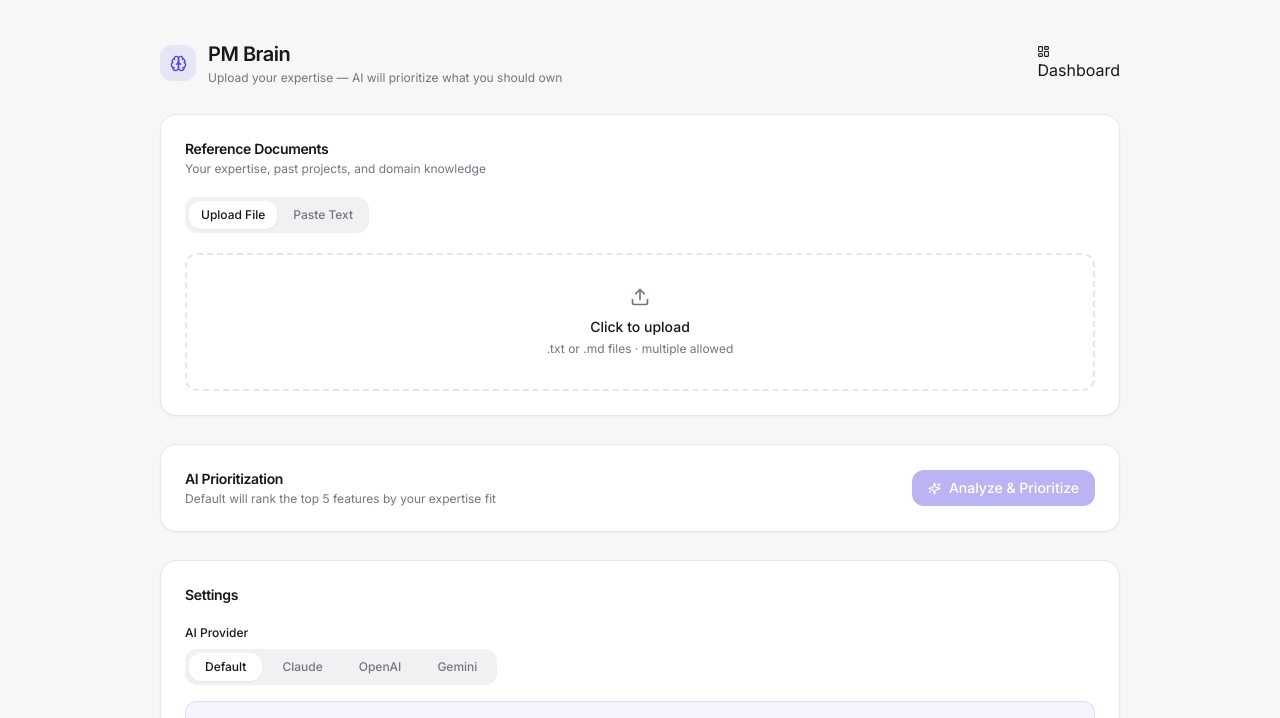
Test: PM Brain Page › switching to Claude shows API key input
Click the button "Claude" at [303, 667], box [266,653,339,681]
(page scrolled)
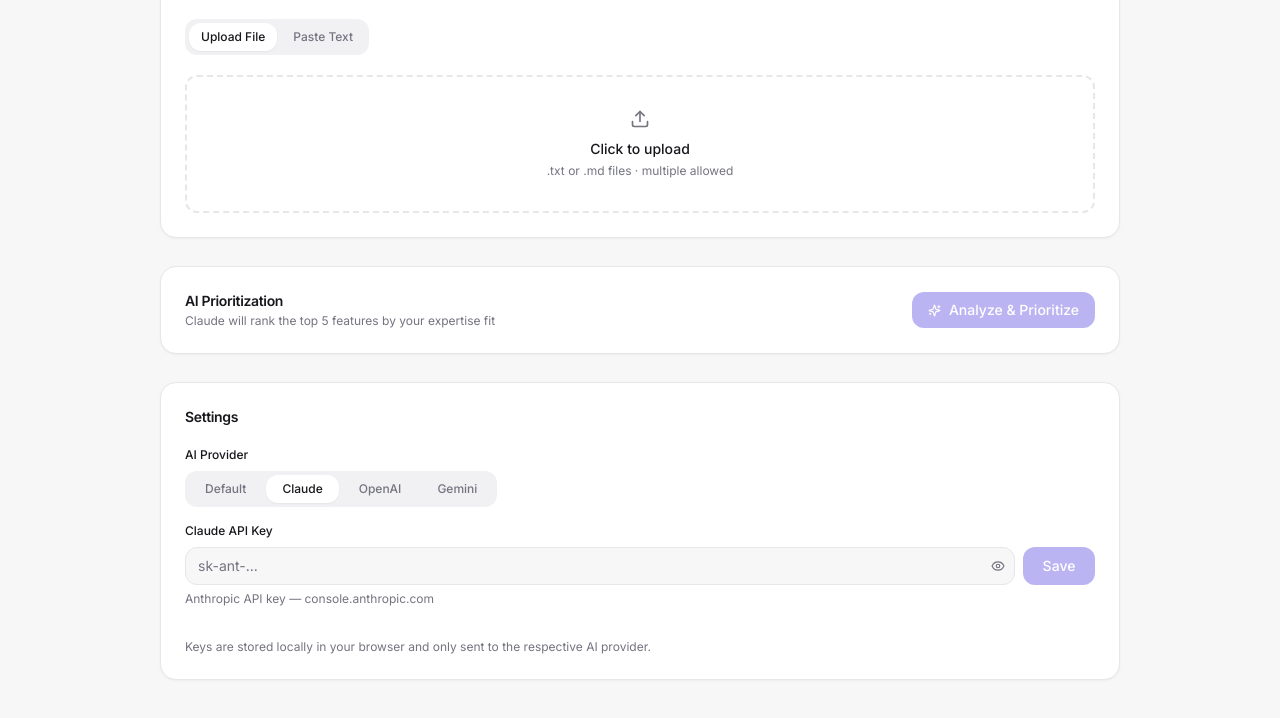
Expected: the password field with placeholder "sk-ant-..." is shown, [185,547,1015,585]
